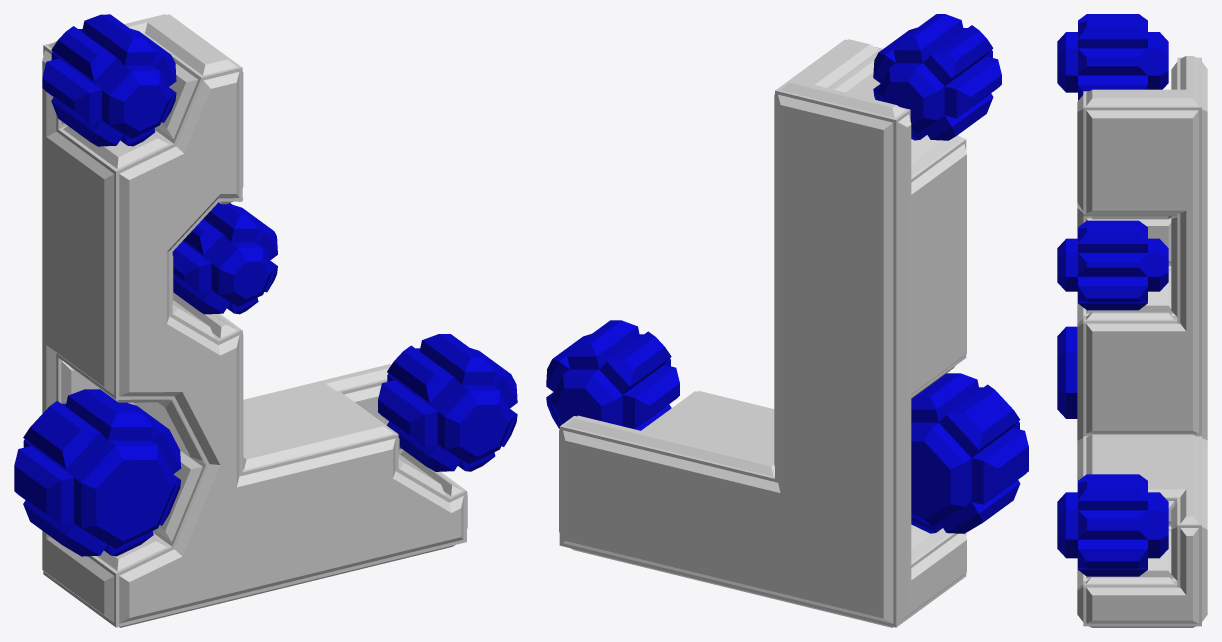
3 views of the same model, side by side, from view 1: azimuth 30°, elevation 25°; view 2: azimuth 150°, elevation 25°; view 3: azimuth 270°, elevation 25° (orthographic). The views are drawn at different scales.
Parts seen in each view (by area): view 1: sphere1; view 2: sphere1; view 3: sphere1.
Part boxes in pixels (x1,y1,x2,y2): sphere1: (14, 14, 517, 627); sphere1: (546, 14, 1028, 627); sphere1: (1057, 14, 1207, 627).
Bounding box in the file's own units: 0.7439 × 0.8919 × 0.2541.
